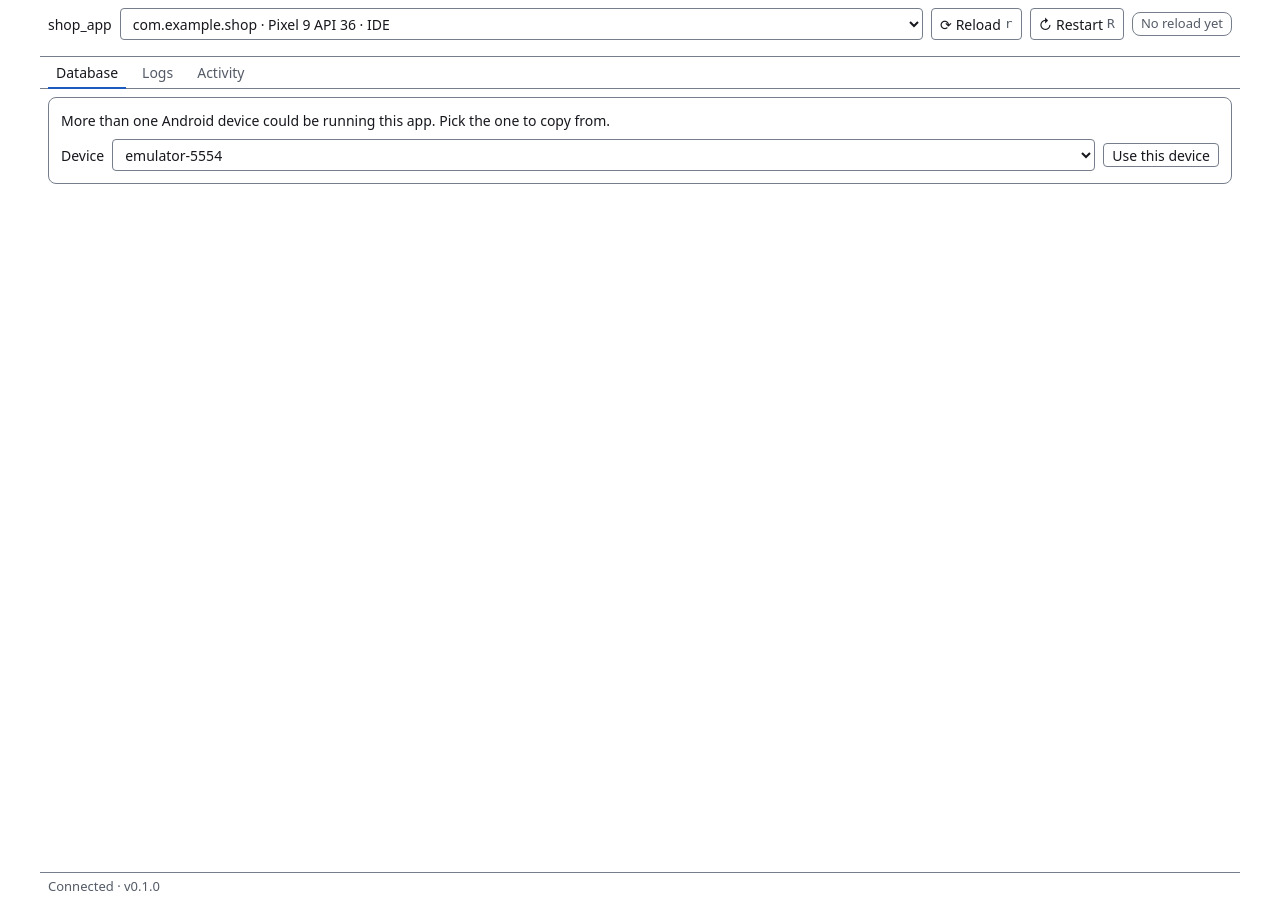
it: Database picker › choose-device: the user picks the device, then the databases show
Step 1. Select "R58M123ABC" in the dropdown labelled "Device" → (604, 155), box [112,139,1095,171]
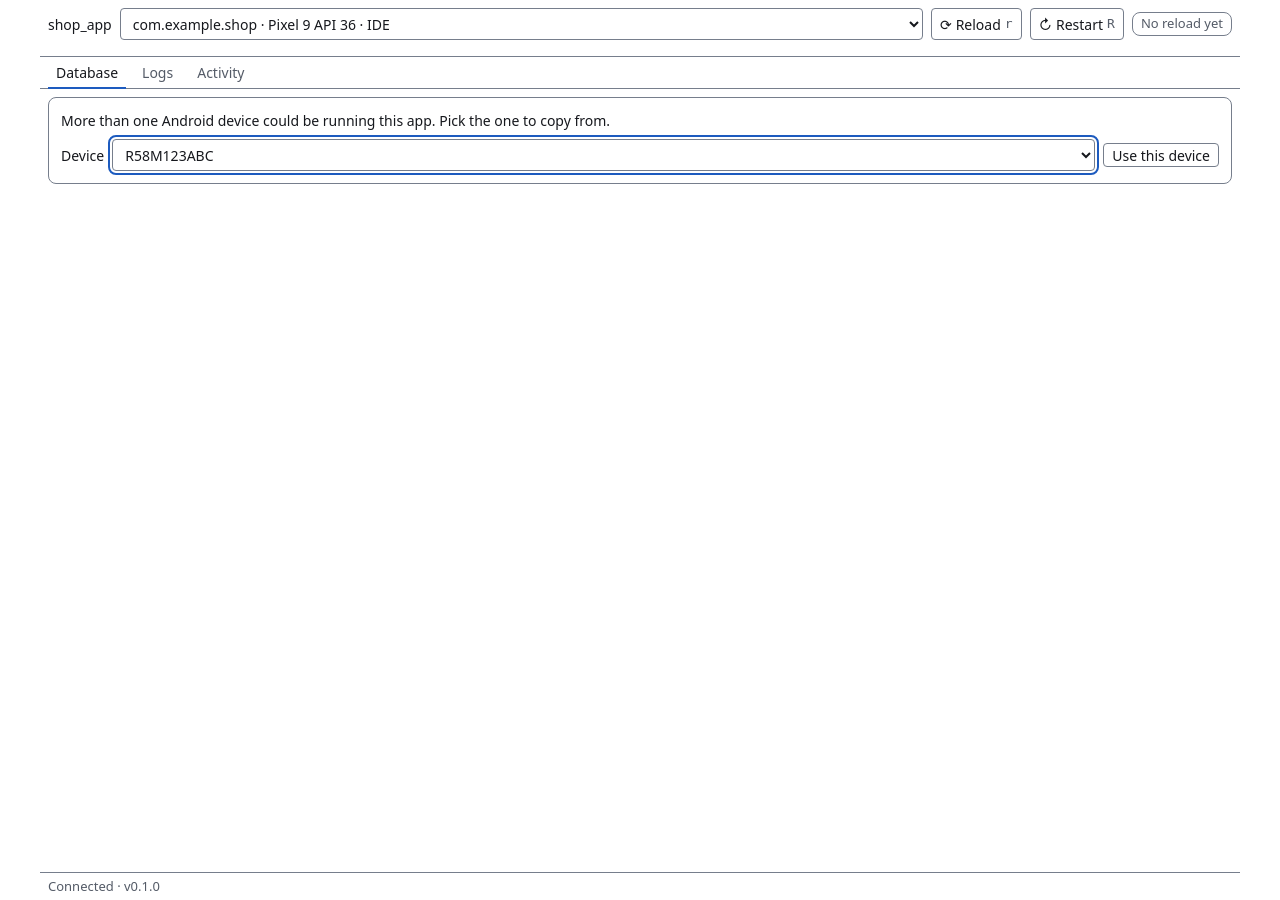
Step 2. Click the button "Use this device" → click(1161, 155), box [1103,143,1219,167]
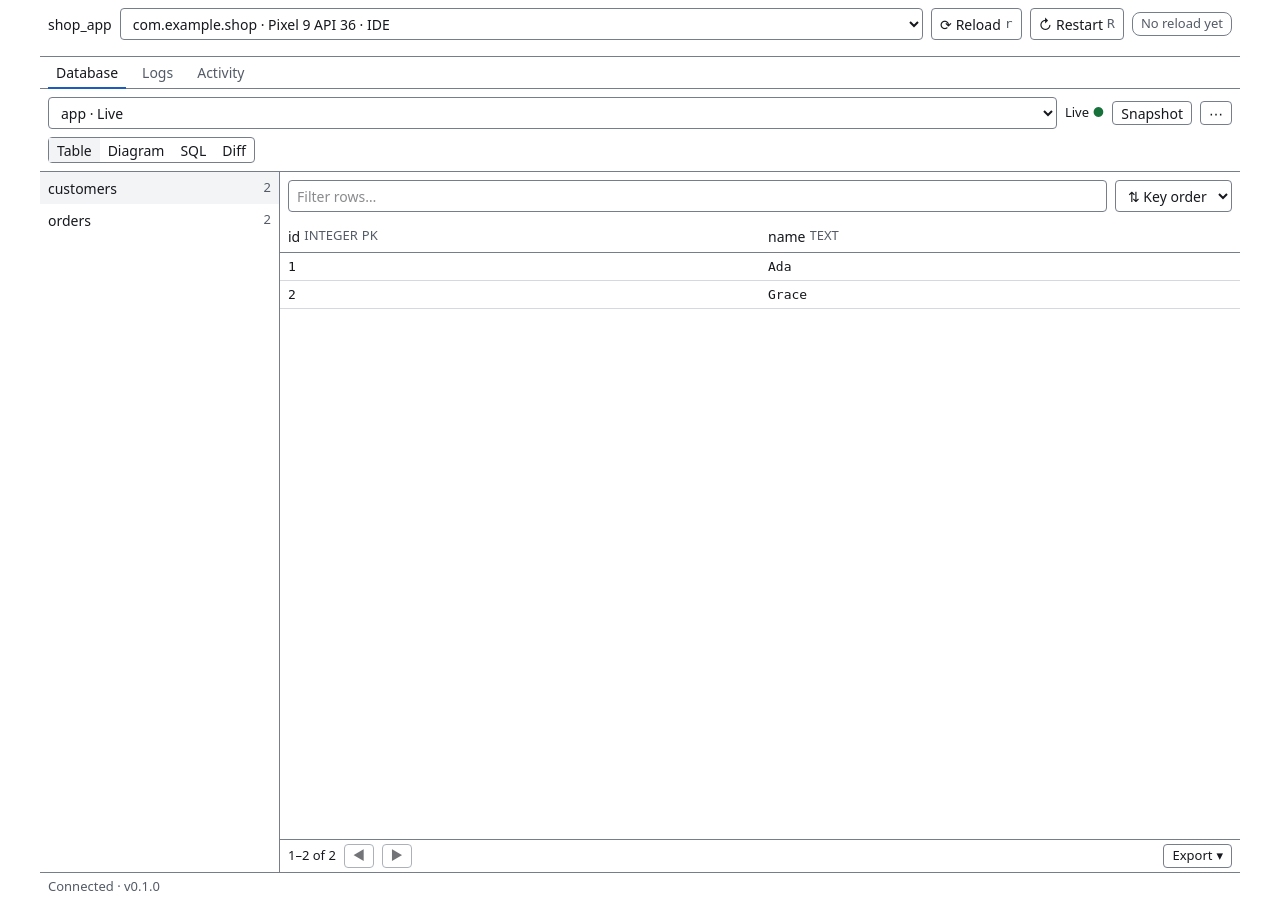
Check: the dropdown named "Database" shows "app · Live", box [48,97,1057,129]
